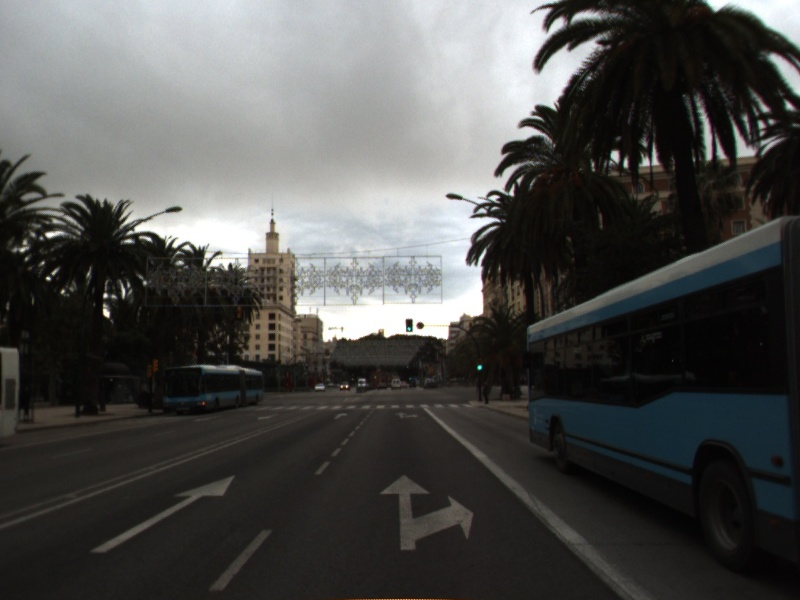STRAIGHT: (87, 472, 237, 555), (332, 411, 349, 421)
STRAIGHT_RIGHT: (377, 472, 476, 553), (393, 410, 421, 420)
